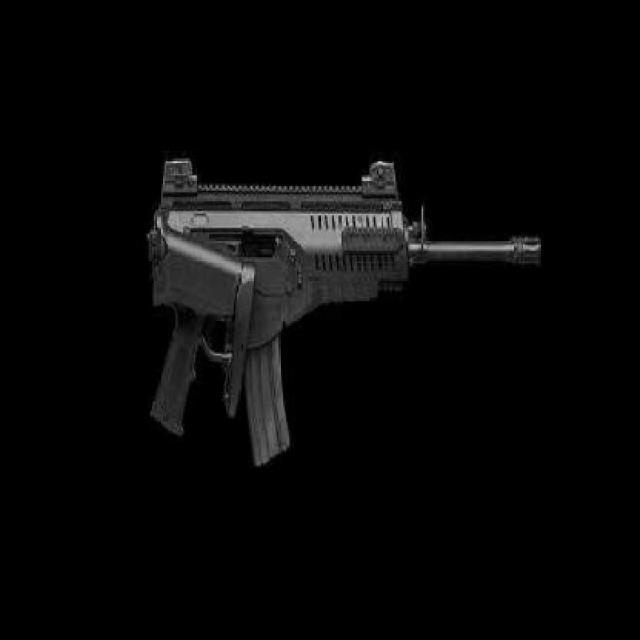weapon: (136, 182, 538, 479)
